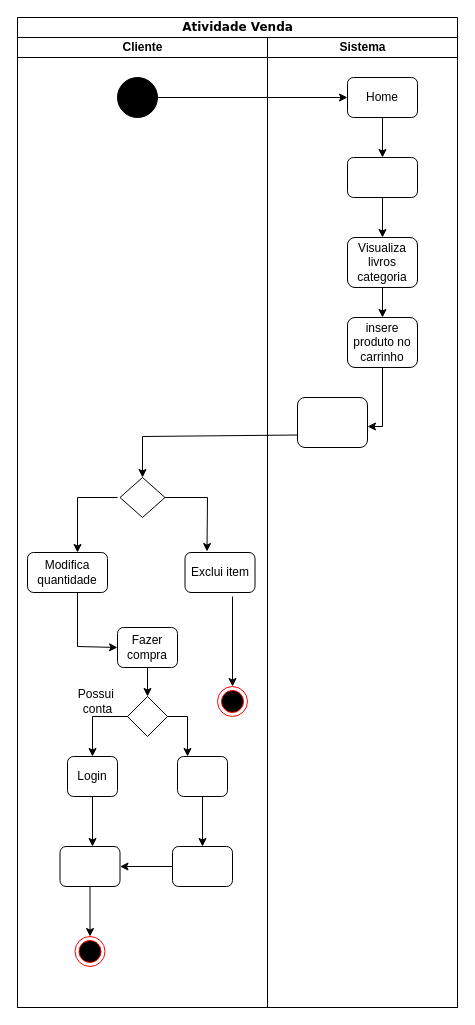
Some shapes in this 475 by 1025 pixel diagram are drawn without their labels. Here are the shapes that lost their labels. From the top down, the centre of each, then its label:
(382,177): Seleciona categoria
(332,422): Carrinho compra
(202,776): Sem Conta
(89,866): Finalizar compra
(202,866): Criar conta
